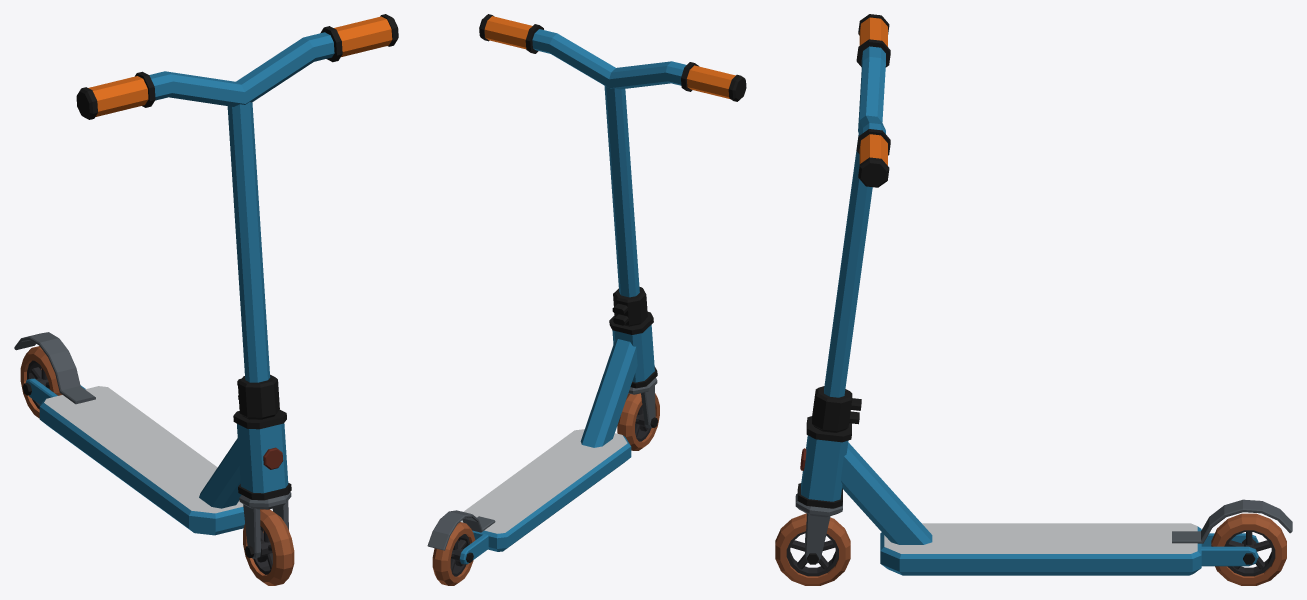
File: stunt-scooter-d98af3.glb
3 renders of one model, left to right at view 1: azimuth 30°, elevation 25°; view 2: azimuth 150°, elevation 25°; view 3: azimuth 270°, elevation 25°, orthographic. The views are drawn at different scales.
Visible parts, largest first — view 1: stunt-scooter-d98af3; view 2: stunt-scooter-d98af3; view 3: stunt-scooter-d98af3.
Part boxes in pixels (x1,y1,x2,y2): stunt-scooter-d98af3: (14,14,398,585); stunt-scooter-d98af3: (427,14,746,585); stunt-scooter-d98af3: (775,14,1292,585).
Bounding box in the file's own units: 0.545 × 0.8566 × 0.8059.
